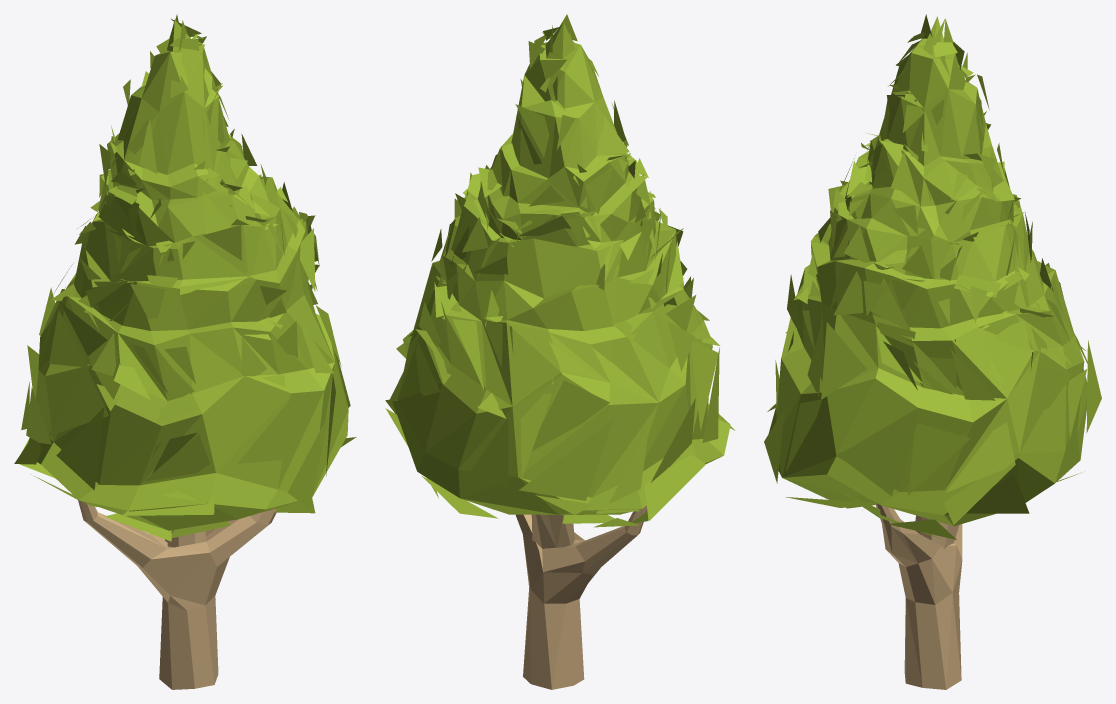
The model's file is Tulip02.fbx.
3 views of the same model, side by side, from view 1: azimuth 30°, elevation 25°; view 2: azimuth 150°, elevation 25°; view 3: azimuth 270°, elevation 25° (orthographic).
Parts seen in each view (by area): view 1: leaves.002, extraleaves, trunk.002; view 2: leaves.002, extraleaves, trunk.002; view 3: leaves.002, extraleaves, trunk.002.
Boxes of the visible parts, bbox=[...] form: leaves.002: bbox=[28, 20, 348, 530]; extraleaves: bbox=[14, 14, 356, 541]; trunk.002: bbox=[78, 90, 276, 689]; leaves.002: bbox=[392, 22, 730, 514]; extraleaves: bbox=[385, 14, 735, 527]; trunk.002: bbox=[515, 506, 647, 689]; leaves.002: bbox=[768, 16, 1087, 526]; extraleaves: bbox=[764, 14, 1101, 539]; trunk.002: bbox=[875, 99, 962, 689].
Size of the model in its own units: 374 by 816 by 378.
